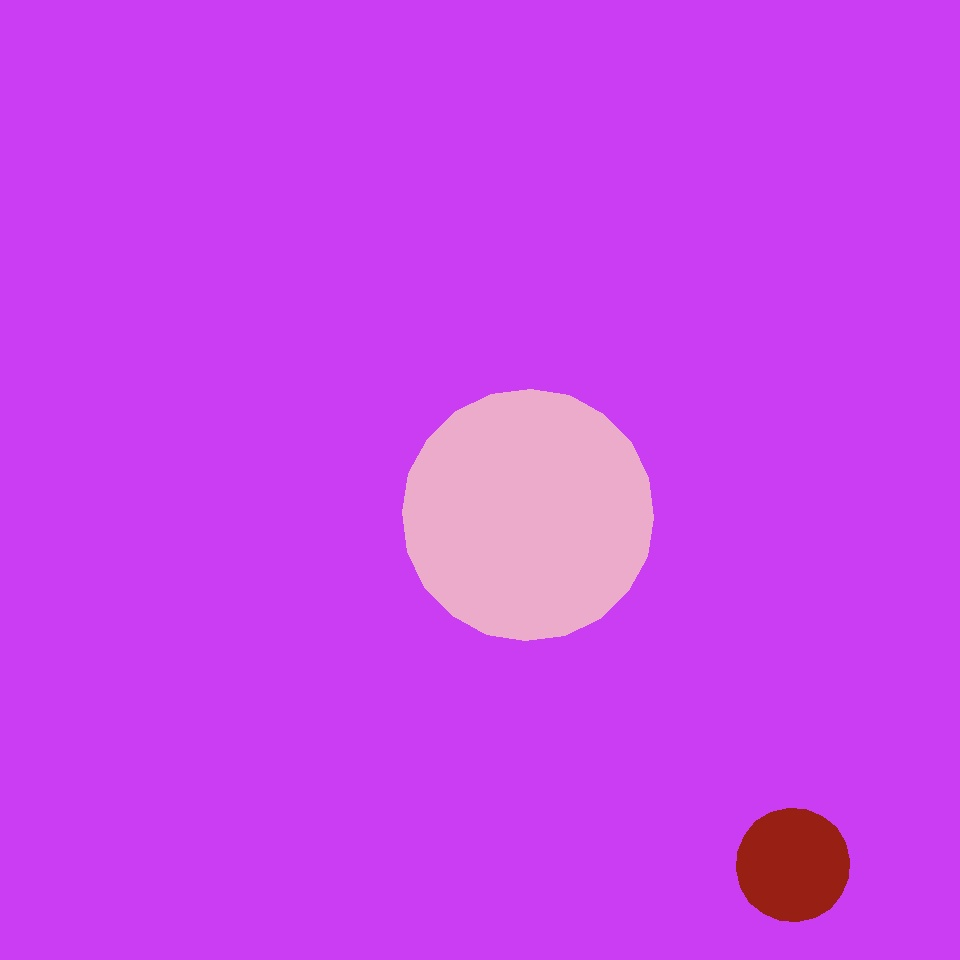circle: (680, 718, 806, 849)
square: (325, 72, 692, 439), (468, 243, 807, 583), (656, 444, 911, 700), (550, 623, 740, 813)
triangle: (403, 390, 654, 640), (260, 615, 385, 740), (736, 808, 850, 922)
